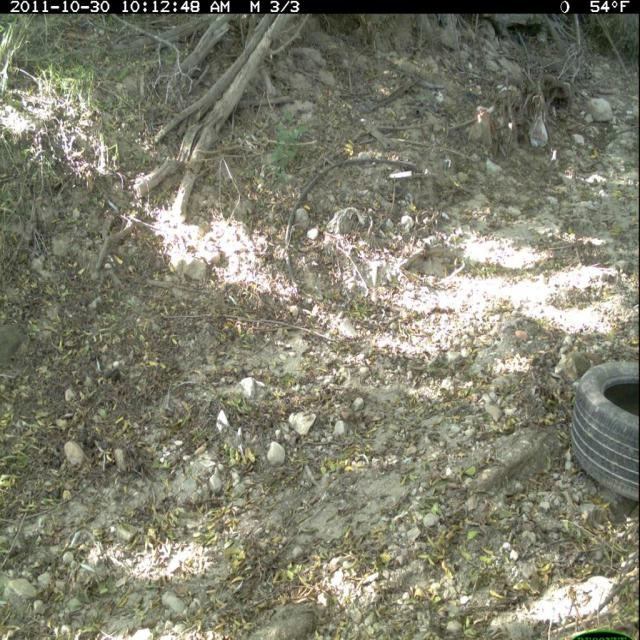cat: (246, 569, 334, 639)
